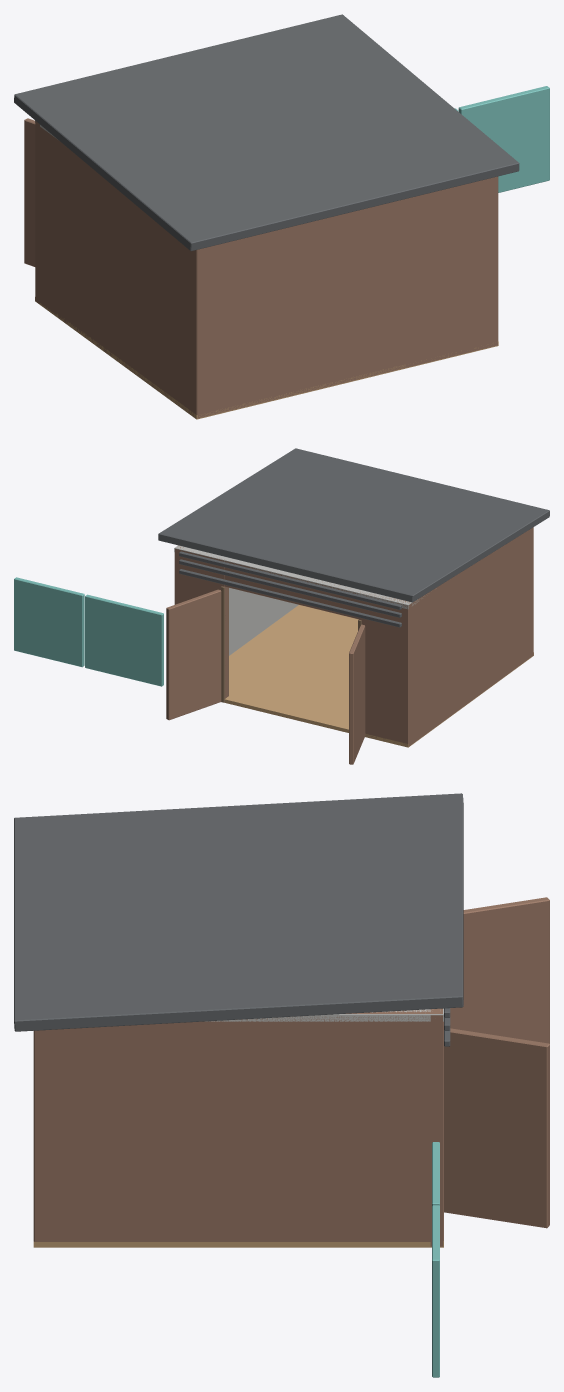
Rendered from Sultanbeyli_RustGarage63.fbx.
3 renders of one model, top to bottom at view 1: azimuth 30°, elevation 25°; view 2: azimuth 150°, elevation 25°; view 3: azimuth 270°, elevation 25°, orthographic. The views are drawn at different scales.
Visible parts, largest first — view 1: Sultanbeyli_RustGarage63; view 2: Sultanbeyli_RustGarage63; view 3: Sultanbeyli_RustGarage63.
Part boxes in pixels (bbox=[...]): Sultanbeyli_RustGarage63: bbox=[14, 14, 549, 419]; Sultanbeyli_RustGarage63: bbox=[14, 448, 549, 764]; Sultanbeyli_RustGarage63: bbox=[14, 793, 549, 1377].
Bounding box in the file's own units: 9.72 × 3.65 × 6.79.
